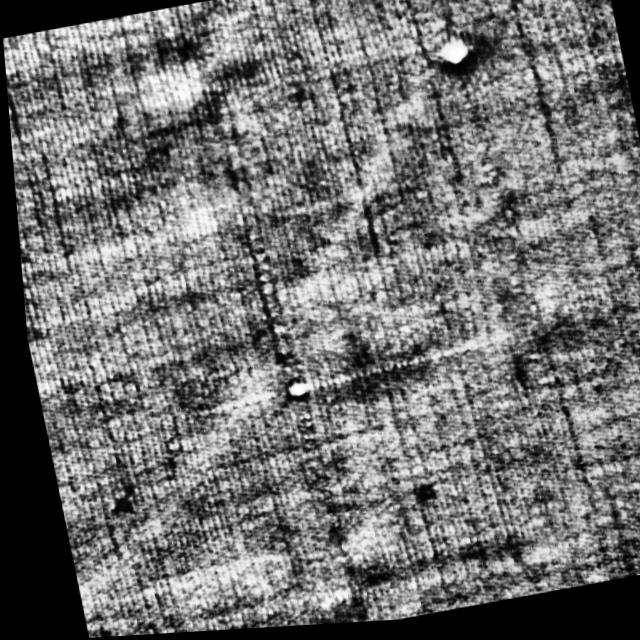Hole: (429, 21, 498, 79)
